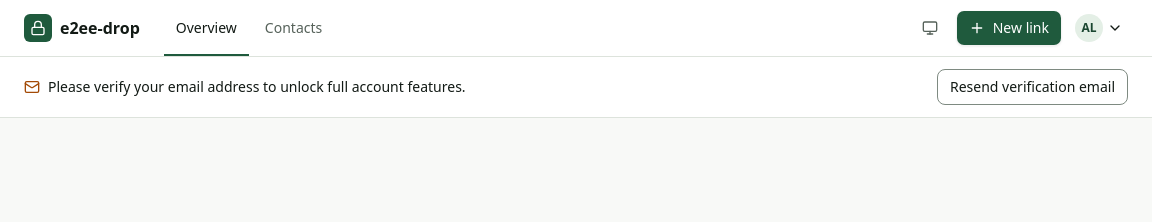
it: NavBar › shows contacts/new link/account/logout and hides login/register when logged in
Check: the link "Contacts" is shown, box [265,18,322,37]
Check: the link "New link" is shown, box [956,10,1062,46]
// Account and Log out live in the account menu (a disclosure) since the redesign.
Click the button with aria-label "account menu for alice" at [1099, 28], box [1070,10,1128,46]
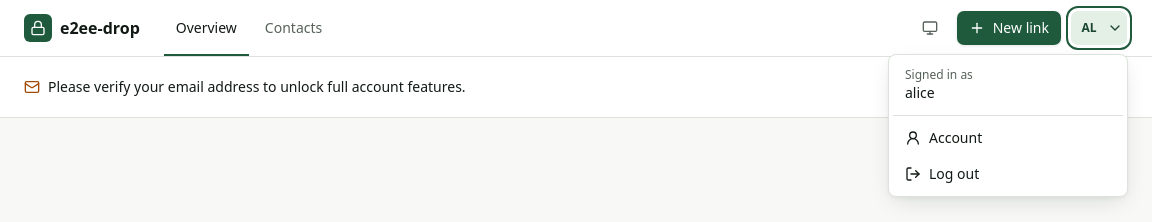
Check: the link "Account" is shown, box [905,128,982,147]
Check: the button "Log out" is shown, box [893,156,1123,192]
